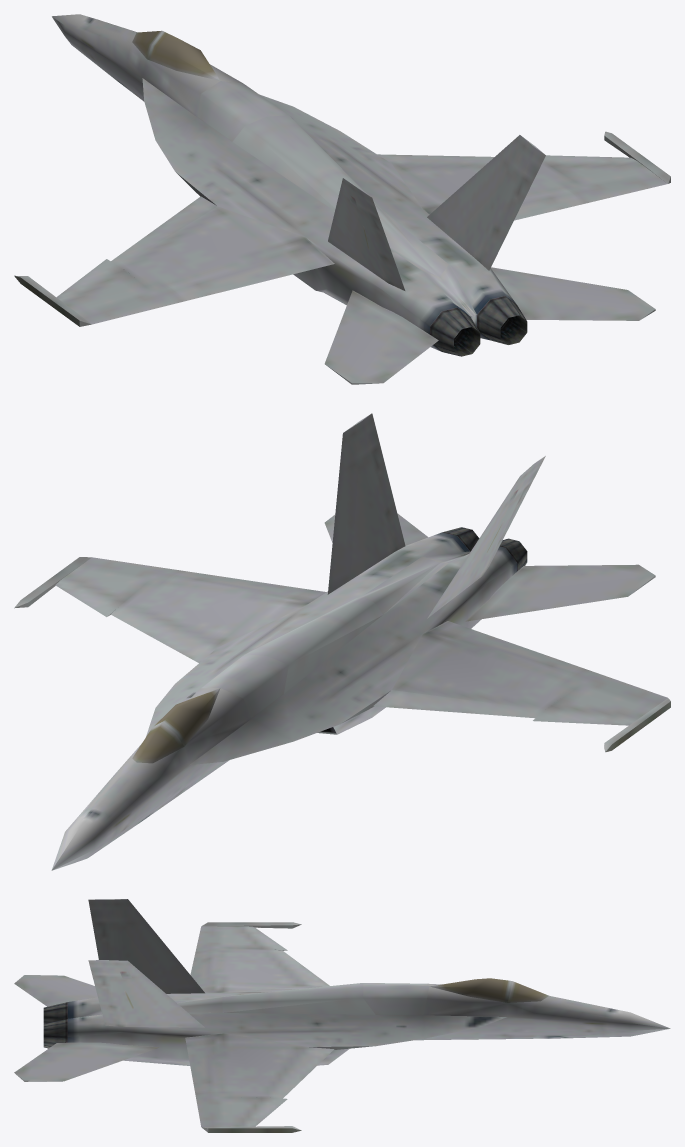
The model's file is ea01.ico.obj.
3 renders of one model, top to bottom at view 1: azimuth 30°, elevation 25°; view 2: azimuth 150°, elevation 25°; view 3: azimuth 270°, elevation 25°, orthographic. The views are drawn at different scales.
Bounding box in the file's own units: 3.41 × 0.9507 × 4.6.
1 material, 1 textured.
